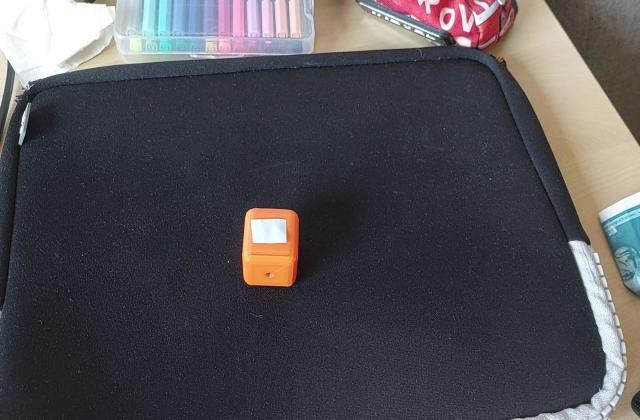sticker: (240, 206, 300, 290)
white: (247, 218, 291, 246)
